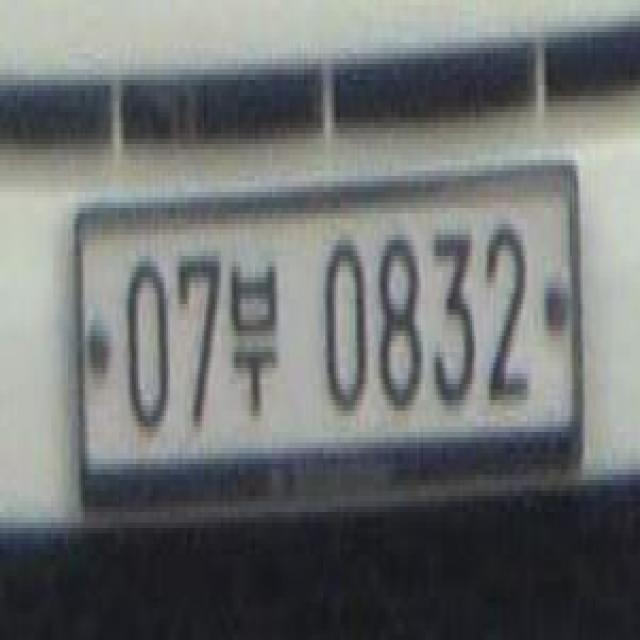illegal_plate: (75, 159, 585, 505)
